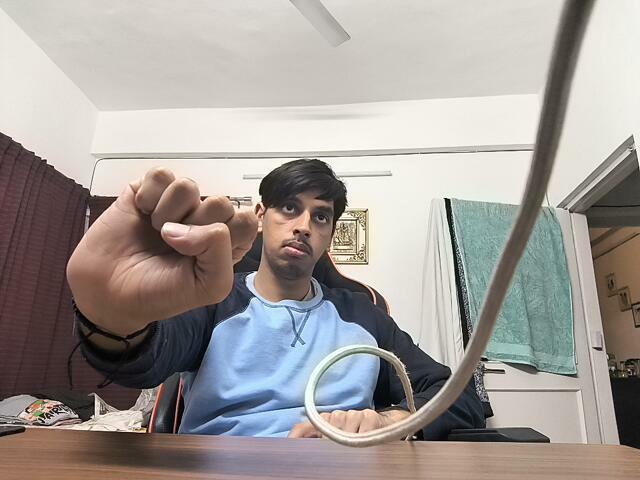DOWN: (64, 158, 261, 334)
